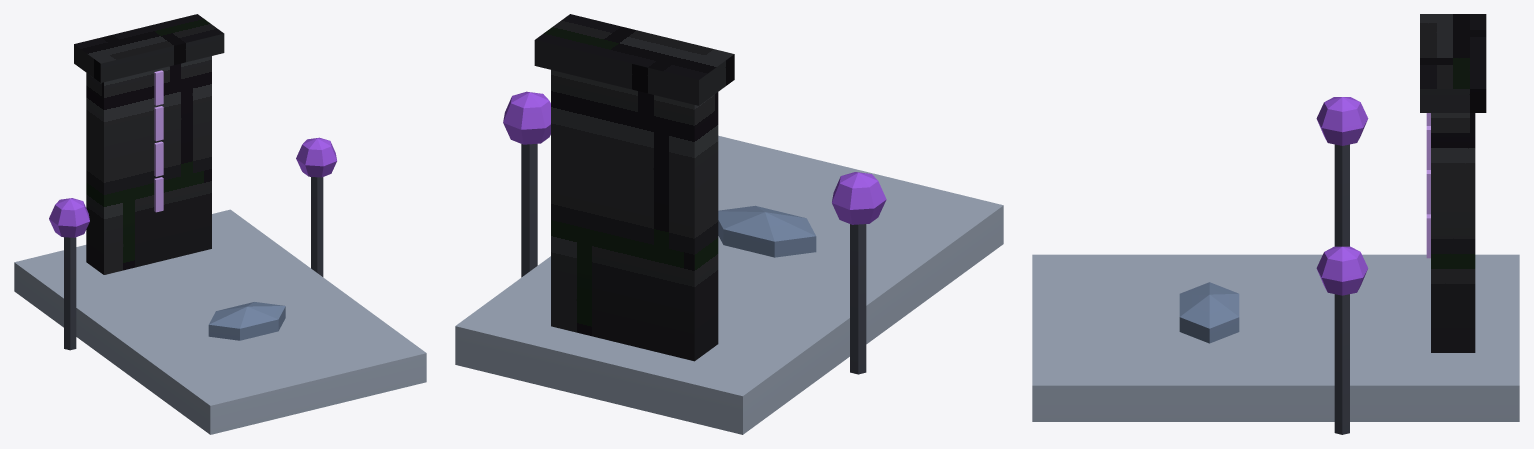
The model's file is eira_grave.glb.
The picture shows the model from 3 angles, left to right: view 1: azimuth 30°, elevation 25°; view 2: azimuth 150°, elevation 25°; view 3: azimuth 270°, elevation 25°; orthographic projection. The views are drawn at different scales.
Visible parts, largest first — view 1: eira_grave; view 2: eira_grave; view 3: eira_grave.
Part boxes in pixels (x1,y1,x2,y2): eira_grave: (14, 14, 426, 434); eira_grave: (455, 14, 1003, 434); eira_grave: (1032, 14, 1519, 434).
Bounding box in the file's own units: 1.83 × 1.52 × 2.2.
3 materials, 1 textured.
